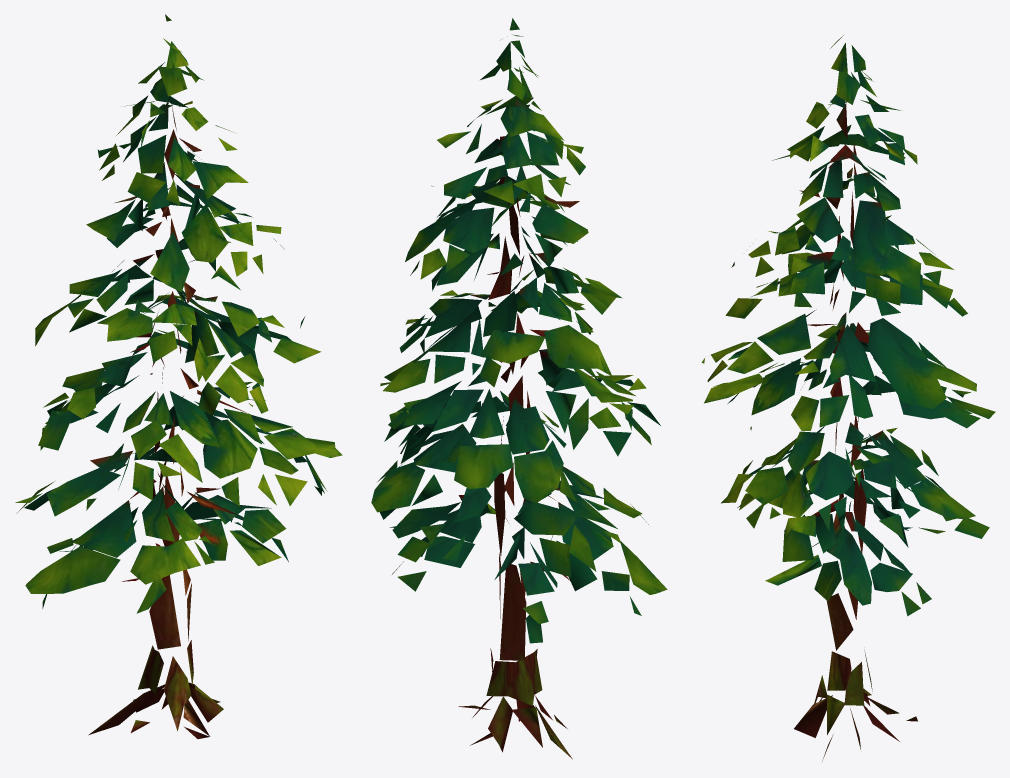
Rendered from pine.glb.
The picture shows the model from 3 angles, left to right: view 1: azimuth 30°, elevation 25°; view 2: azimuth 150°, elevation 25°; view 3: azimuth 270°, elevation 25°; orthographic projection.
Visible parts, largest first — view 1: tripo_node_9c755c0e-d0ed-45dc-a0de-238036035a68; view 2: tripo_node_9c755c0e-d0ed-45dc-a0de-238036035a68; view 3: tripo_node_9c755c0e-d0ed-45dc-a0de-238036035a68.
Boxes of the visible parts, box(x1,y1,x2,y2) form: tripo_node_9c755c0e-d0ed-45dc-a0de-238036035a68: box(15, 14, 342, 738); tripo_node_9c755c0e-d0ed-45dc-a0de-238036035a68: box(371, 18, 667, 759); tripo_node_9c755c0e-d0ed-45dc-a0de-238036035a68: box(701, 35, 995, 761).
Size of the model in its own units: 1.88 by 4.37 by 1.66.
Materials: 1 (1 with a texture image).
